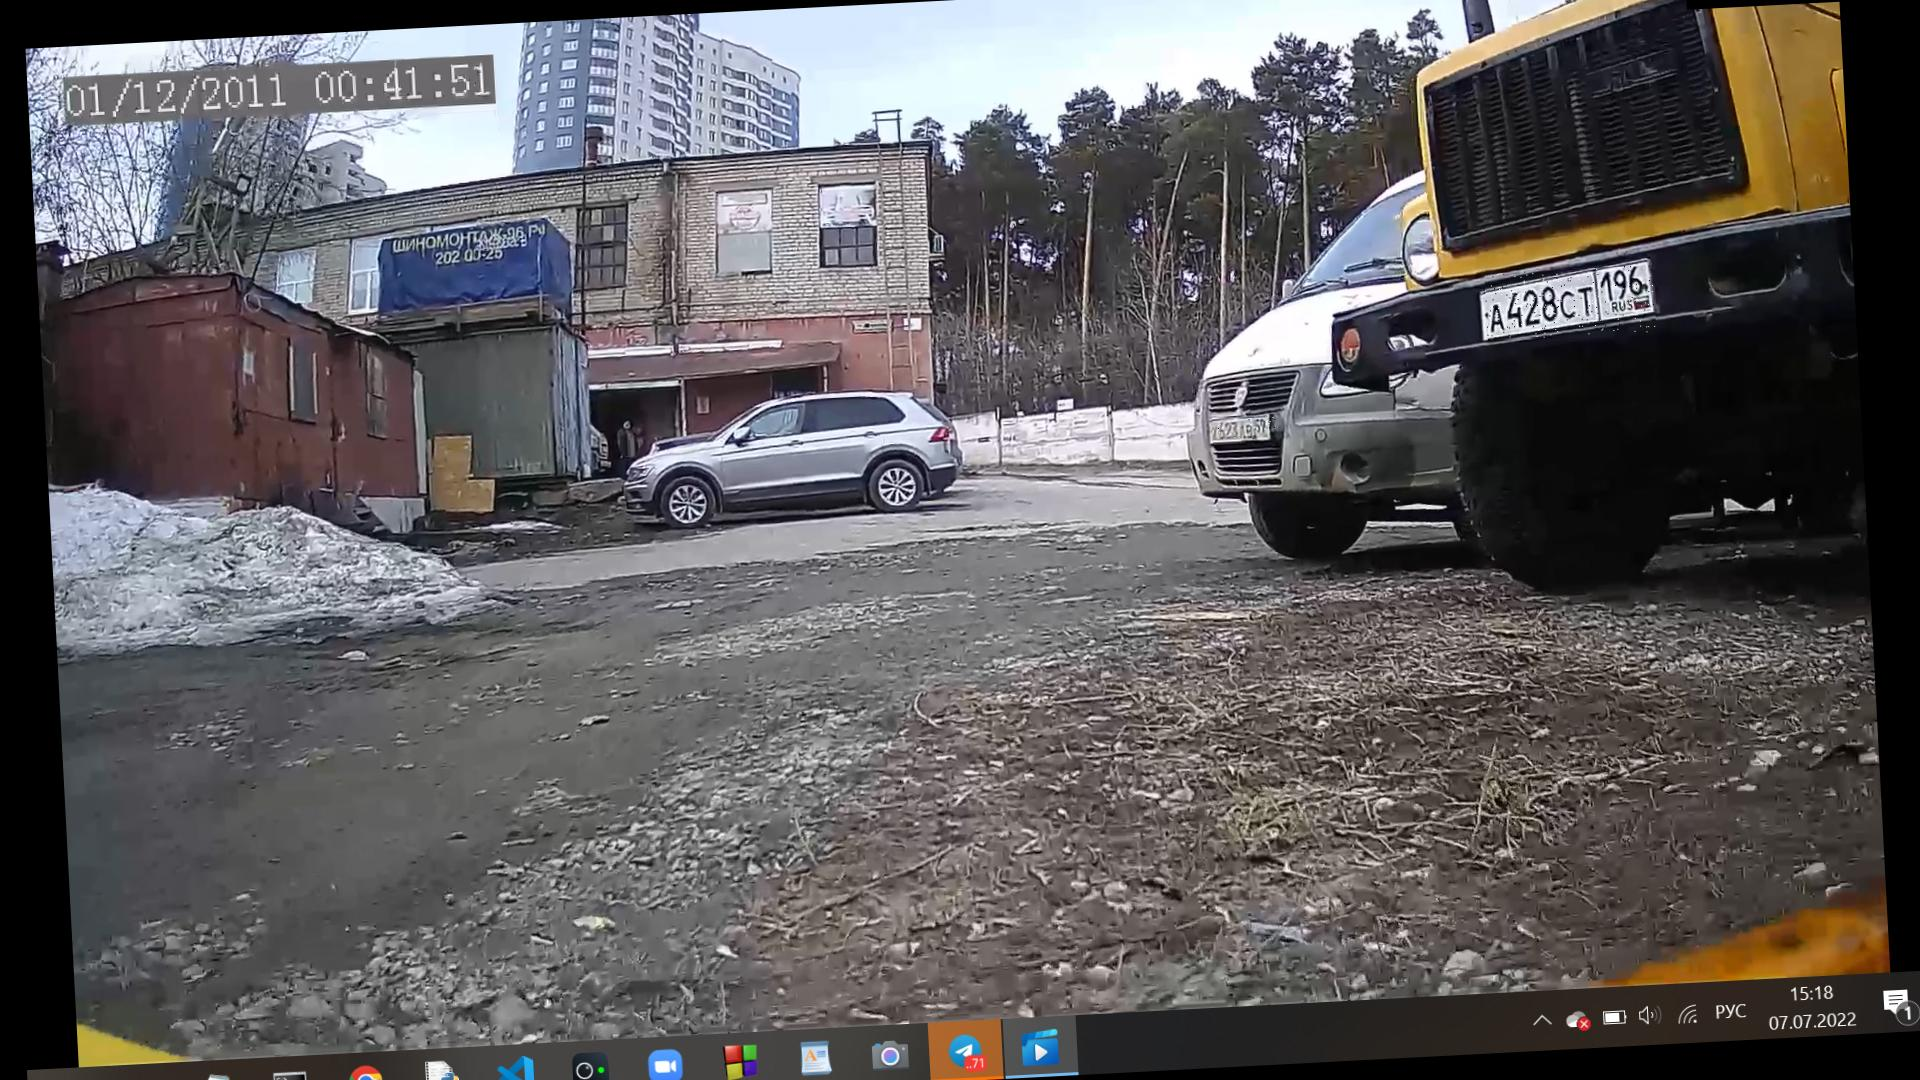plate: (1486, 266, 1658, 342), (1213, 415, 1279, 450)
